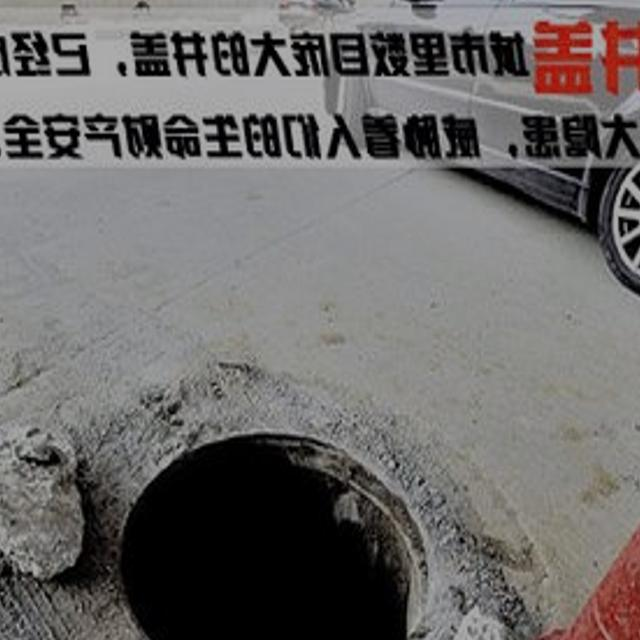lose: (101, 408, 442, 640)
